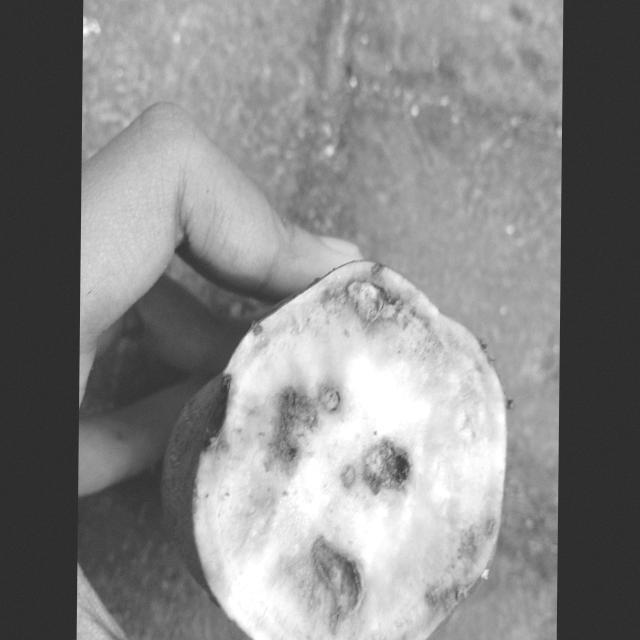Sick Sweet Potato_Tuber Rot: (178, 260, 511, 638)
